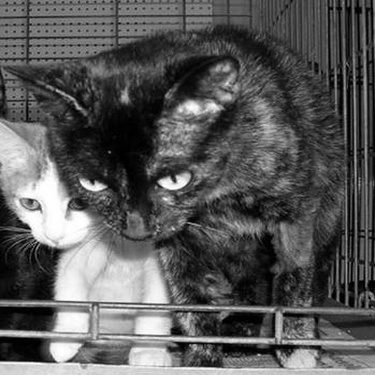cat: (14, 22, 338, 360), (1, 98, 196, 361)
